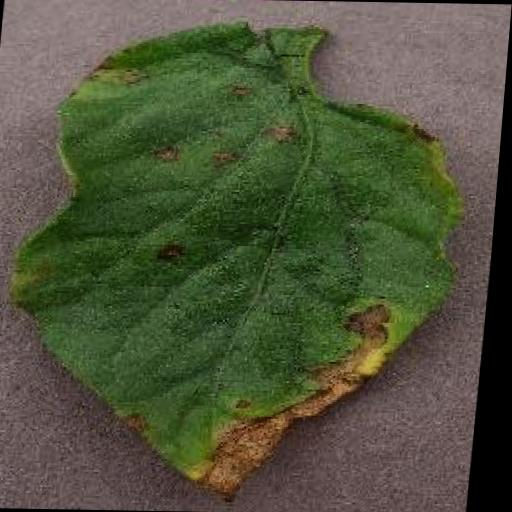Bacterial Spot: (0, 11, 492, 512)
